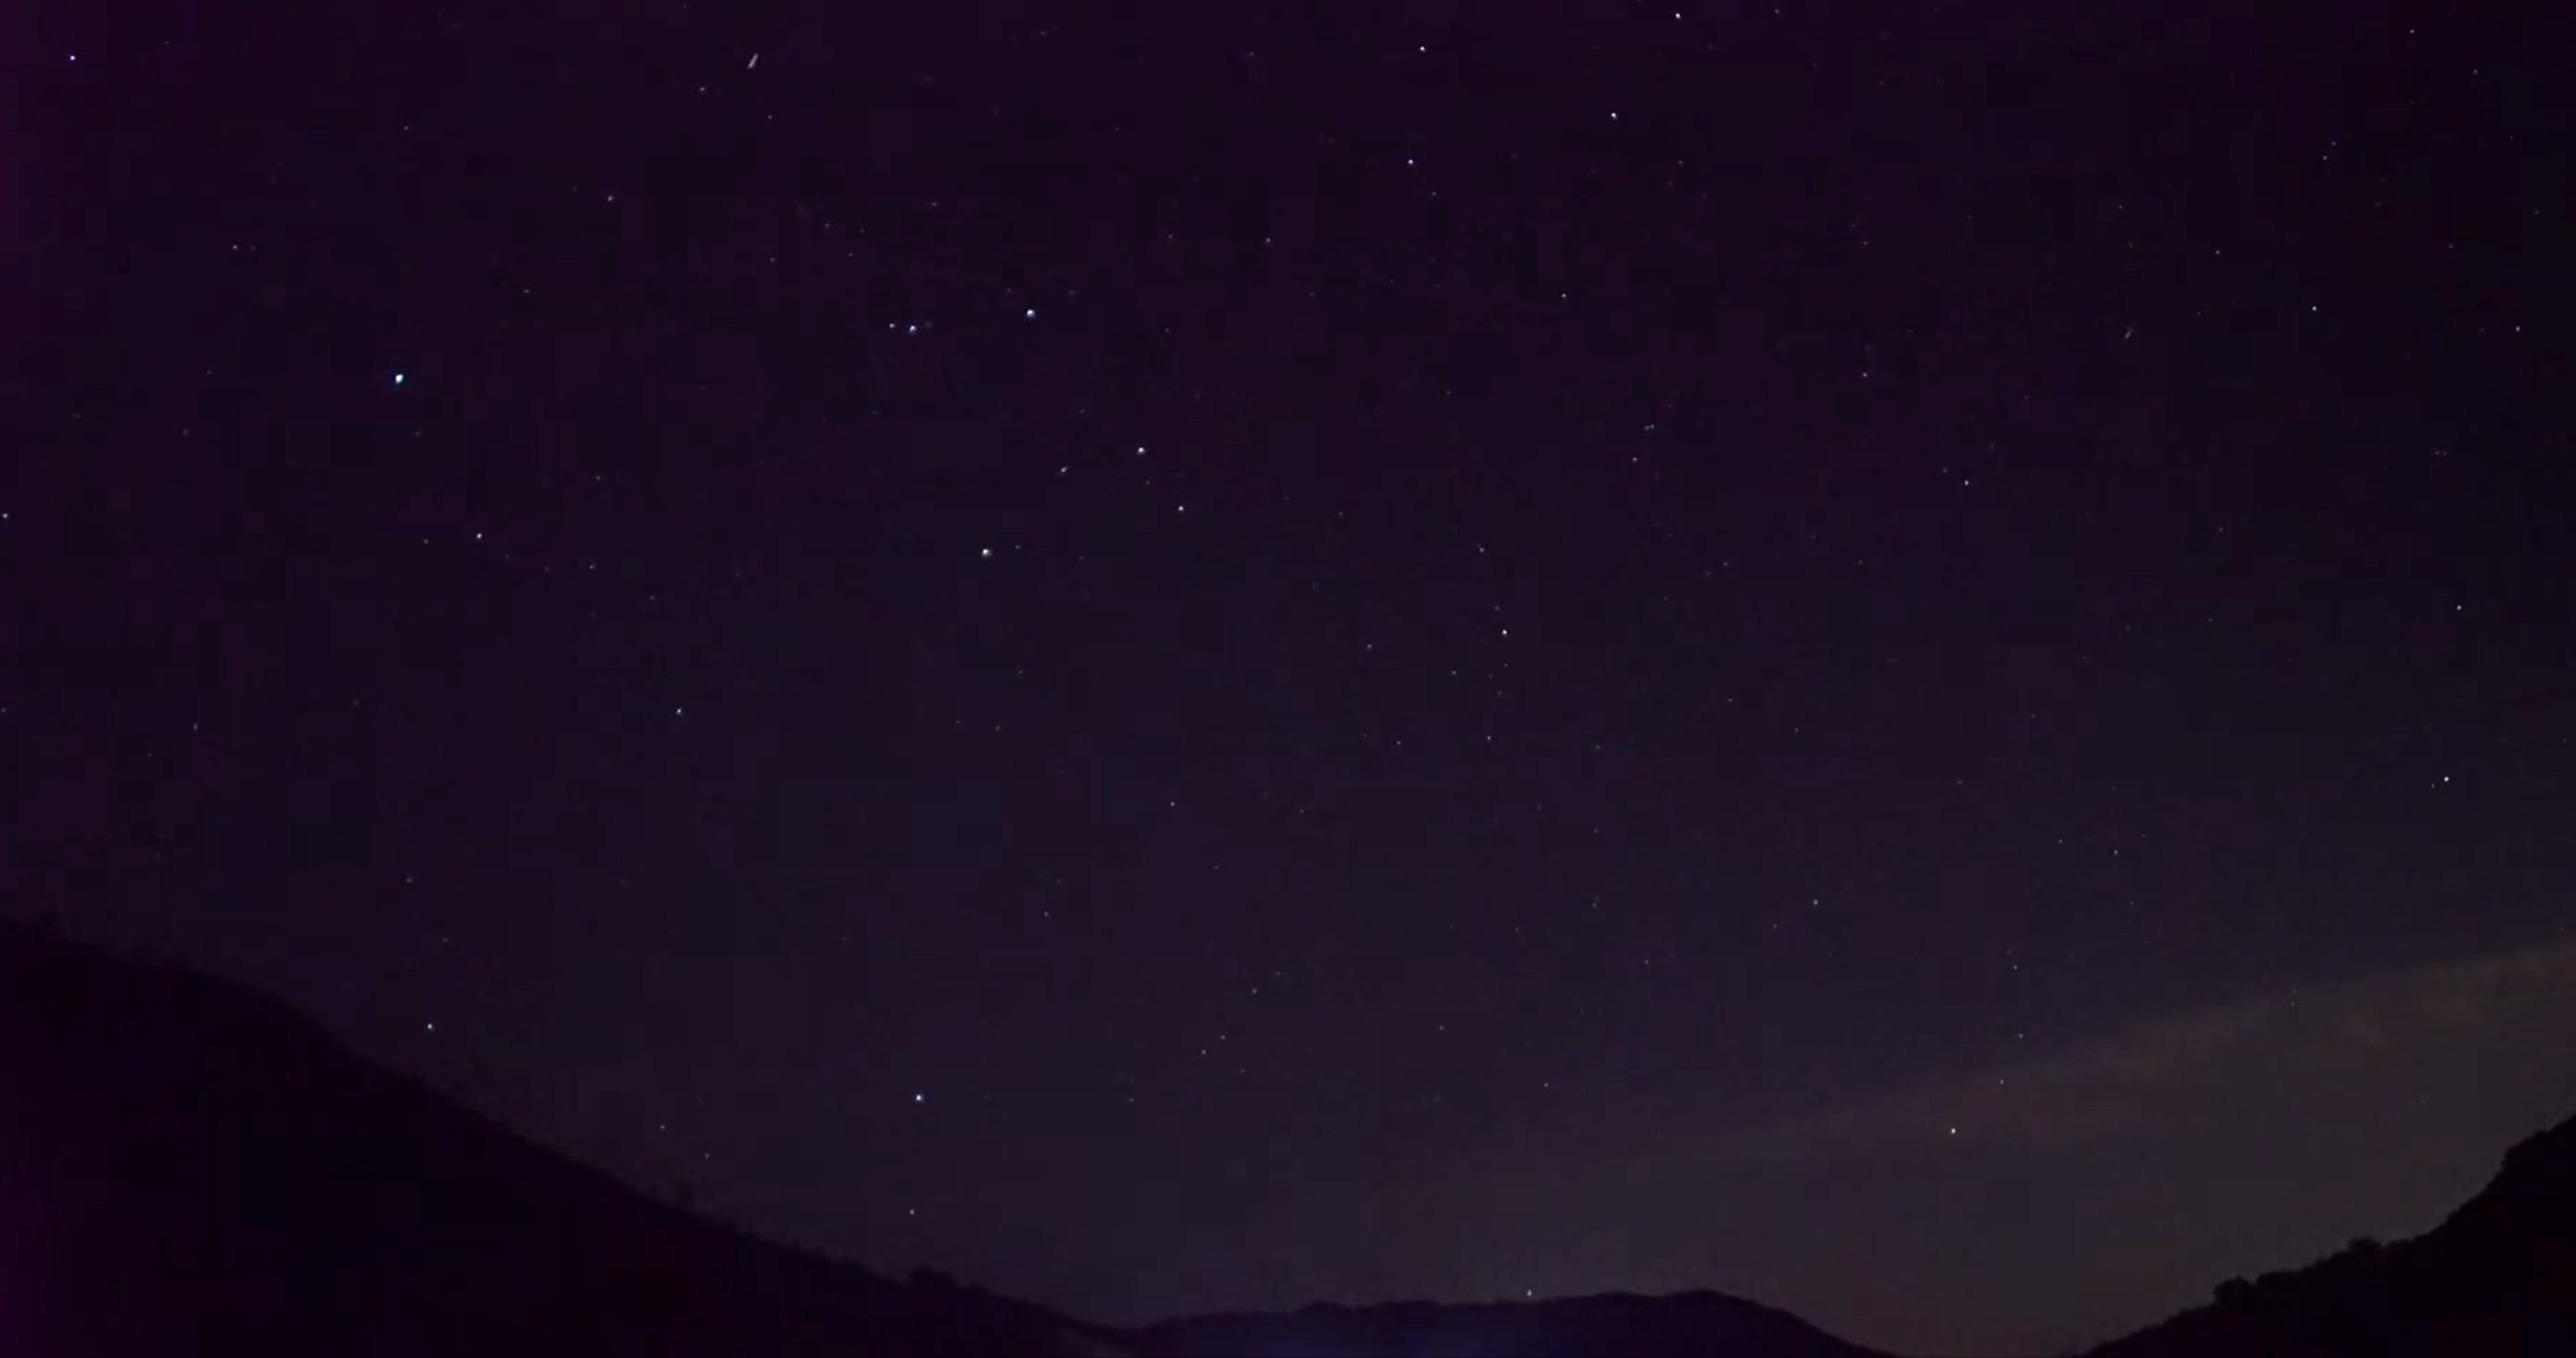meteorite: (736, 43, 772, 77)
